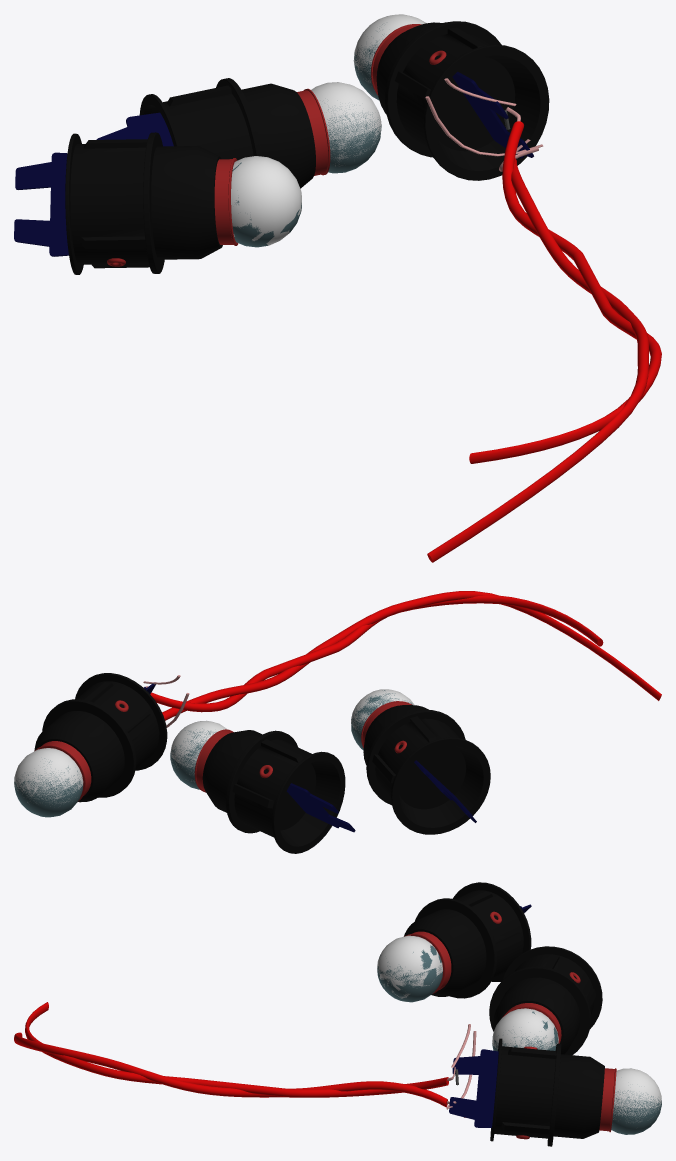
The model's file is lamp.fbx.
The picture shows the model from 3 angles, top to bottom: view 1: azimuth 30°, elevation 25°; view 2: azimuth 150°, elevation 25°; view 3: azimuth 270°, elevation 25°; orthographic projection. The views are drawn at different scales.
Parts seen in each view (by area): view 1: lamp_LOD0, lampglass_LOD0; view 2: lamp_LOD0, lampglass_LOD0; view 3: lamp_LOD0, lampglass_LOD0.
Boxes of the visible parts, x1,y1,x2,y2 form: lamp_LOD0: (14, 21, 661, 562); lampglass_LOD0: (231, 14, 426, 245); lamp_LOD0: (14, 591, 661, 853); lampglass_LOD0: (14, 689, 414, 806); lamp_LOD0: (14, 882, 661, 1146); lampglass_LOD0: (377, 935, 661, 1122).
Size of what is drawn, in the model's own units: 3.09 by 1.11 by 4.45.
